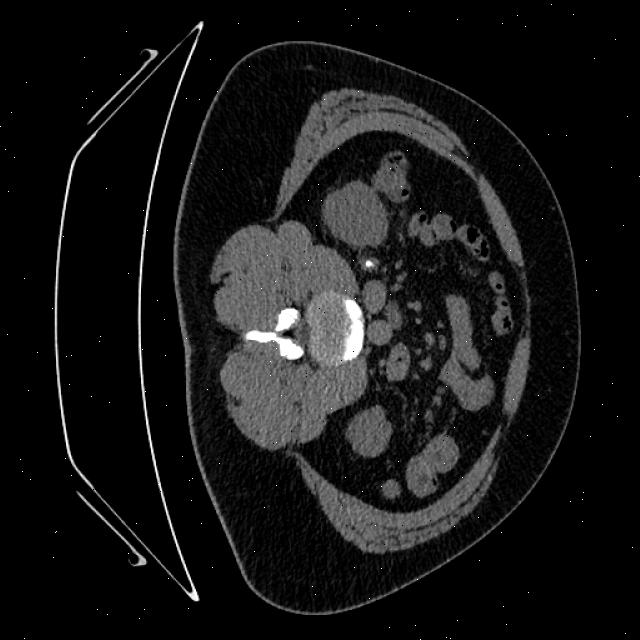kidneystone: (364, 261, 372, 266)
